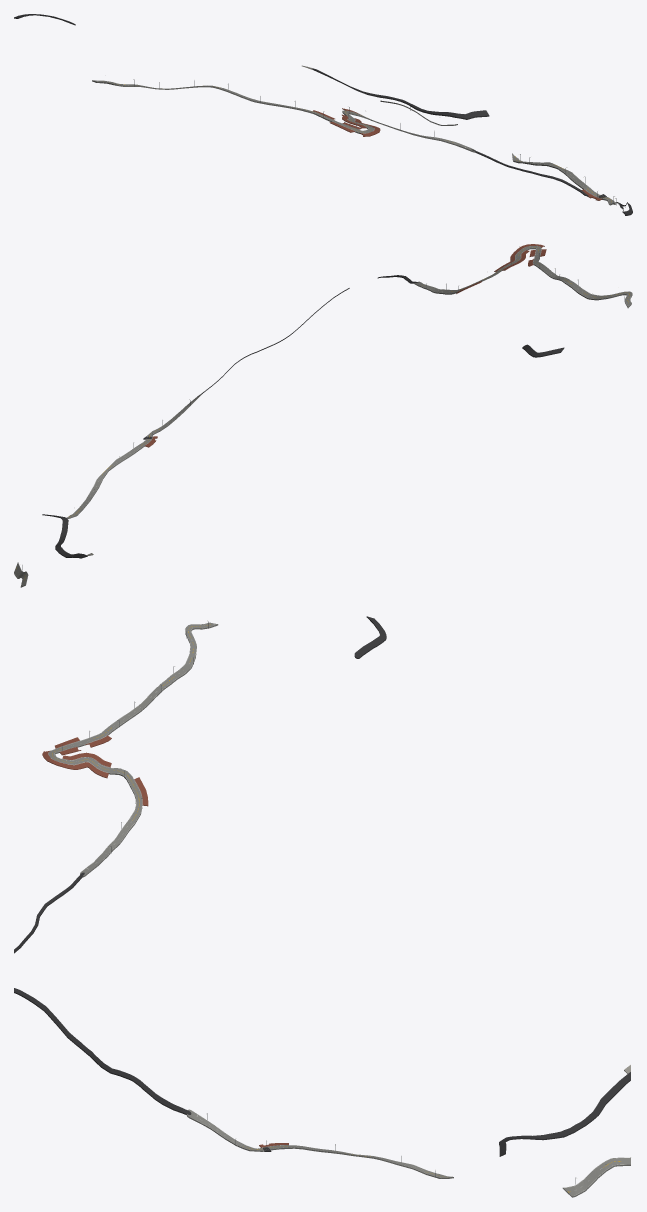
3 renders of one model, top to bottom at view 1: azimuth 30°, elevation 25°; view 2: azimuth 150°, elevation 25°; view 3: azimuth 270°, elevation 25°, orthographic. The views are drawn at different scales.
Bounding box in the file's own units: 588 × 333 × 585.
